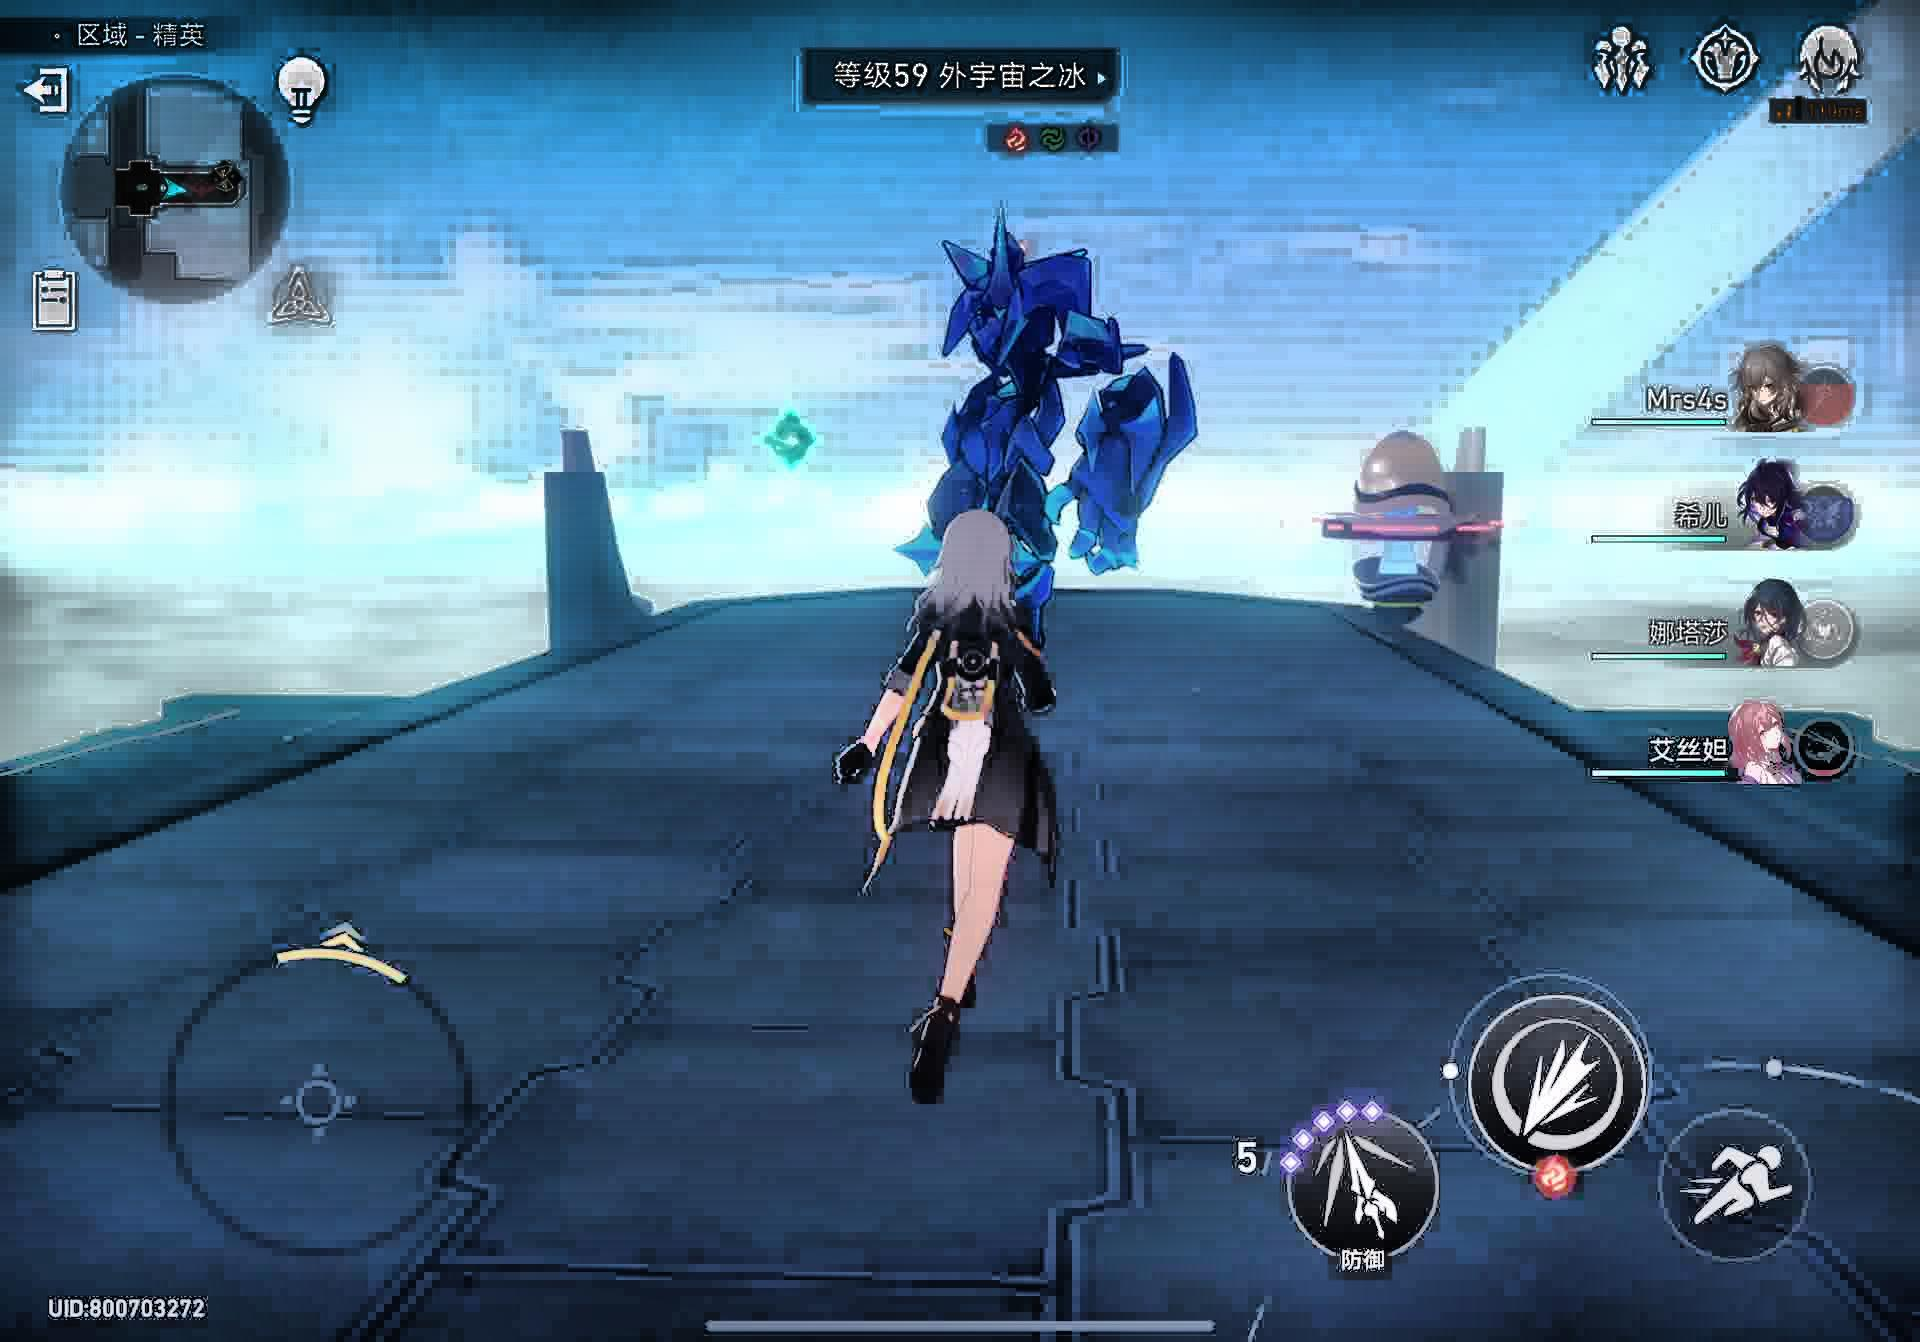Enemy: (913, 230, 1196, 627)
SafeDoor: (748, 408, 829, 483)
Self: (842, 512, 1074, 1113)
